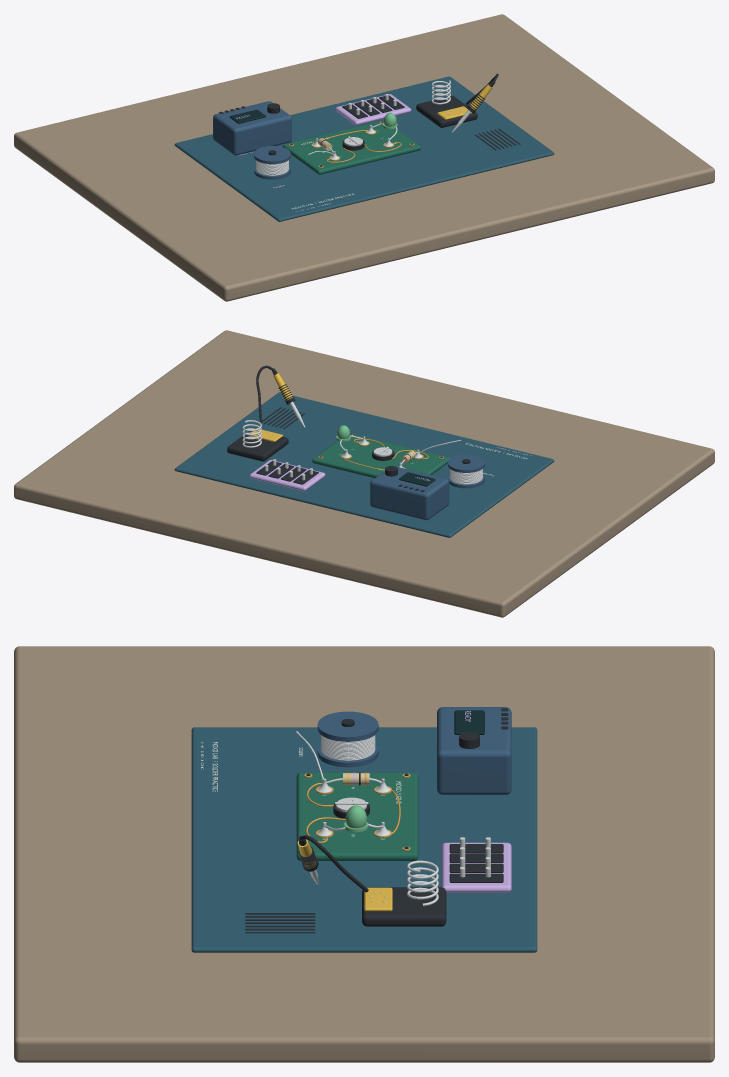
File: solder-bench.glb
3 views of the same model, one above another, from view 1: azimuth 30°, elevation 25°; view 2: azimuth 150°, elevation 25°; view 3: azimuth 270°, elevation 25° (orthographic). The views are drawn at different scales.
Visible parts, largest first — view 1: Desk, Silicone work mat, Practice PCB, Solder station, Iron holder base, Parts tray, Spool flange.001; view 2: Desk, Silicone work mat, Solder station, Practice PCB, Iron holder base, Parts tray, Spool flange.001; view 3: Desk, Silicone work mat, Practice PCB, Solder station, Iron holder base, Parts tray, Spool flange.001, Holder spring, Station display, Holder sponge.
Boxes of the visible parts, <box> form: Desk: <box>14,14,714,301</box>; Silicone work mat: <box>174,76,554,221</box>; Practice PCB: <box>282,120,420,174</box>; Solder station: <box>213,101,291,155</box>; Iron holder base: <box>416,95,477,127</box>; Parts tray: <box>335,94,411,125</box>; Spool flange.001: <box>254,146,290,164</box>; Desk: <box>14,330,714,617</box>; Silicone work mat: <box>174,392,554,537</box>; Solder station: <box>370,466,449,520</box>; Practice PCB: <box>312,433,449,478</box>; Iron holder base: <box>227,431,288,461</box>; Parts tray: <box>249,460,325,491</box>; Spool flange.001: <box>448,454,484,472</box>; Desk: <box>14,646,714,1062</box>; Silicone work mat: <box>191,727,537,952</box>; Practice PCB: <box>296,772,418,860</box>; Solder station: <box>437,707,511,794</box>; Iron holder base: <box>362,887,446,926</box>; Parts tray: <box>441,842,511,892</box>; Spool flange.001: <box>317,711,378,741</box>; Holder spring: <box>407,860,438,906</box>; Station display: <box>454,710,484,734</box>; Holder sponge: <box>364,887,392,911</box>.
Bounding box in the file's own units: 4 × 0.5864 × 3.
